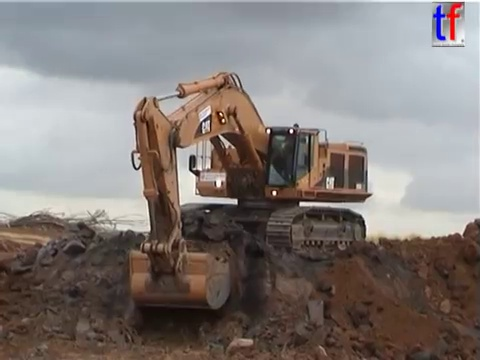excavator: (124, 68, 375, 316)
